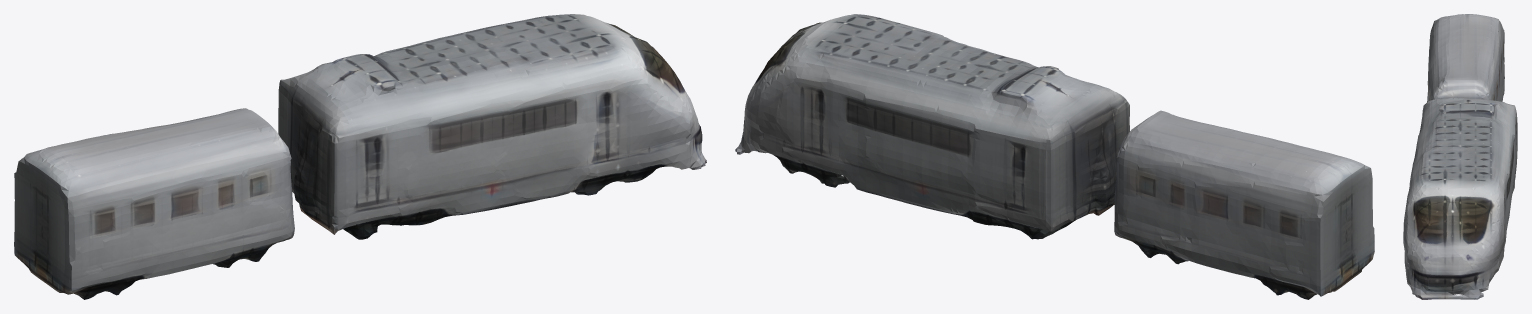
3 views of the same model, side by side, from view 1: azimuth 30°, elevation 25°; view 2: azimuth 150°, elevation 25°; view 3: azimuth 270°, elevation 25° (orthographic). The views are drawn at different scales.
Parts seen in each view (by area): view 1: input.obj; view 2: input.obj; view 3: input.obj.
Boxes of the visible parts, bbox=[...] form: input.obj: bbox=[14, 14, 706, 299]; input.obj: bbox=[735, 14, 1374, 299]; input.obj: bbox=[1403, 14, 1517, 299].
Size of the model in its own units: 4.57 by 1 by 1.08.
1 material, 1 textured.
